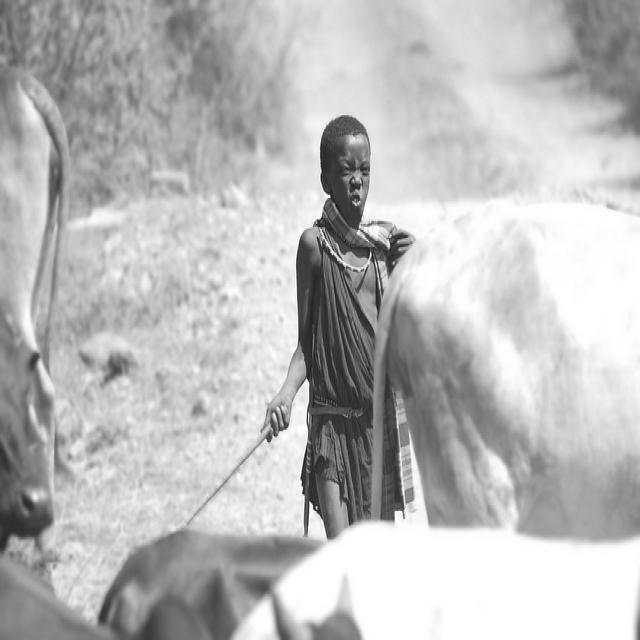monkey: (264, 115, 415, 545)
